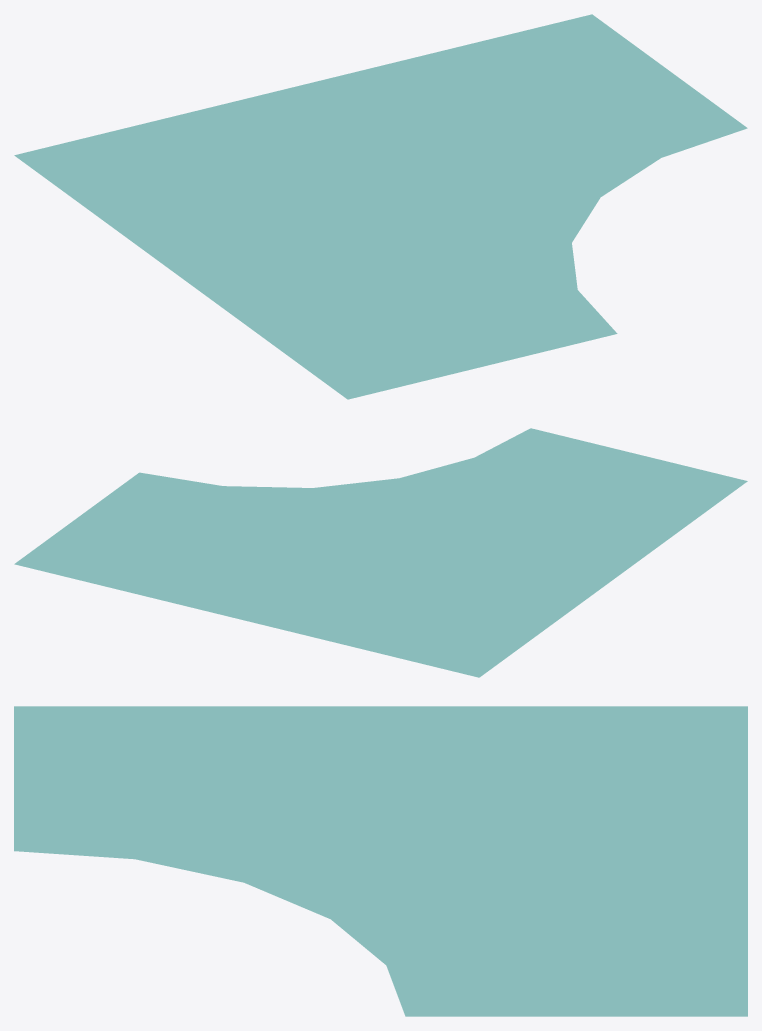
File: center.FBX
3 renders of one model, top to bottom at view 1: azimuth 30°, elevation 25°; view 2: azimuth 150°, elevation 25°; view 3: azimuth 270°, elevation 25°, orthographic. The views are drawn at different scales.
Visible parts, largest first — view 1: center; view 2: center; view 3: center.
Boxes of the visible parts, <box> form: center: <box>14,14,747,399</box>; center: <box>14,428,747,677</box>; center: <box>14,706,747,1016</box>.
Size of the model in its own units: 750 by 750 by 3.19e-07.
